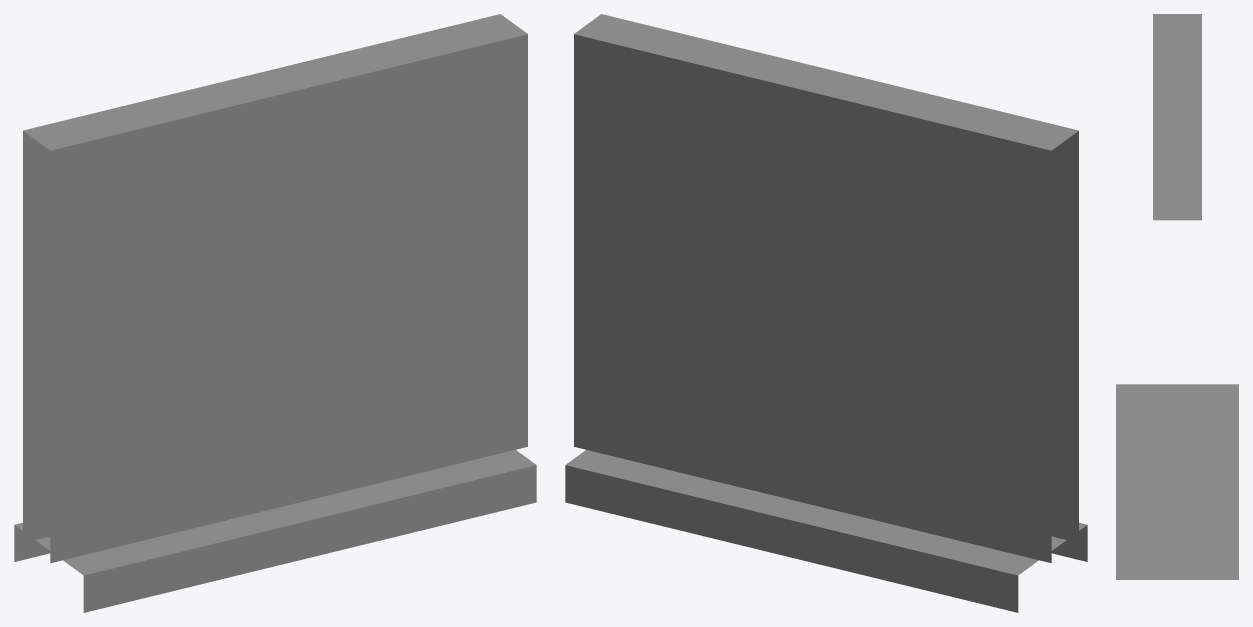
The model's file is Wall_1_1.fbx.
3 renders of one model, left to right at view 1: azimuth 30°, elevation 25°; view 2: azimuth 150°, elevation 25°; view 3: azimuth 270°, elevation 25°, orthographic. The views are drawn at different scales.
Visible parts, largest first — view 1: Wall_1_1; view 2: Wall_1_1; view 3: Wall_1_1.
Boxes of the visible parts, box(x1,y1,x2,y2) form: Wall_1_1: box(14, 14, 536, 612); Wall_1_1: box(565, 14, 1087, 612); Wall_1_1: box(1116, 14, 1238, 579).
Bounding box in the file's own units: 78.74 × 70.87 × 19.83.
